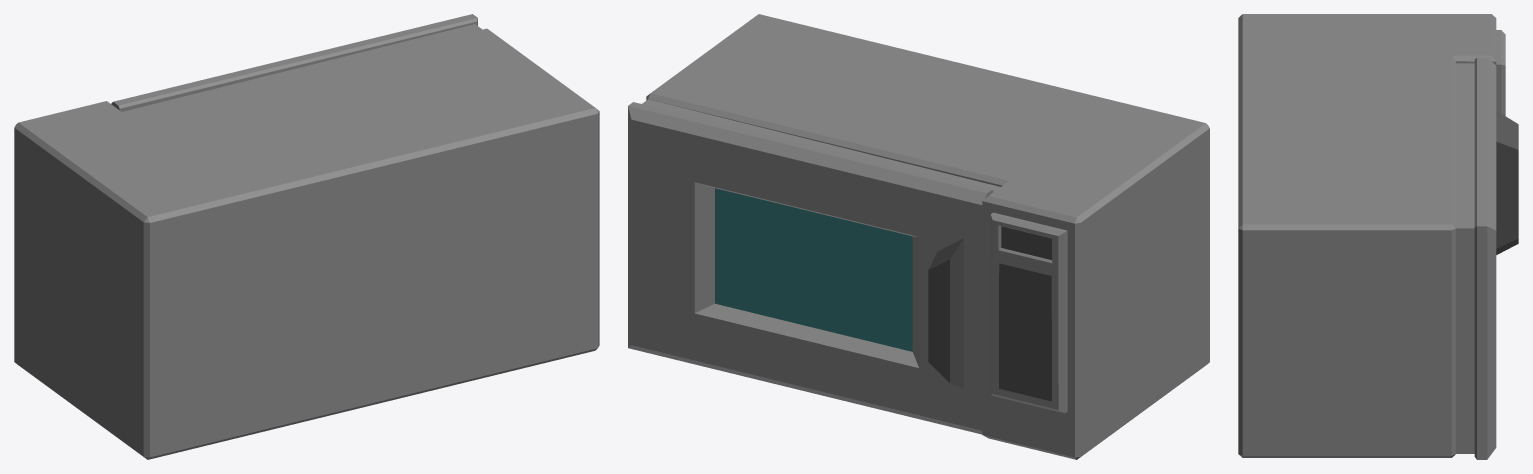
File: microwaver.gltf
3 views of the same model, side by side, from view 1: azimuth 30°, elevation 25°; view 2: azimuth 150°, elevation 25°; view 3: azimuth 270°, elevation 25° (orthographic). The views are drawn at different scales.
Parts seen in each view (by area): view 1: Microwave, Microwave.001; view 2: Microwave, Microwave.001; view 3: Microwave, Microwave.001.
Boxes of the visible parts, bbox=[...] form: Microwave: bbox=[14, 24, 599, 459]; Microwave.001: bbox=[111, 14, 477, 111]; Microwave: bbox=[642, 14, 1209, 459]; Microwave.001: bbox=[628, 102, 993, 434]; Microwave: bbox=[1238, 14, 1505, 457]; Microwave.001: bbox=[1474, 57, 1518, 459].
Size of the model in its own units: 3.78 by 1.92 by 2.09.
